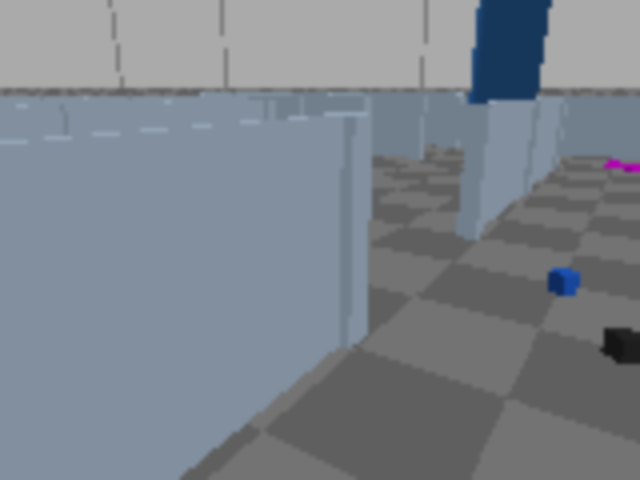goal_zone: (604, 161, 638, 174)
puck: (601, 326, 638, 365), (547, 267, 581, 298)
